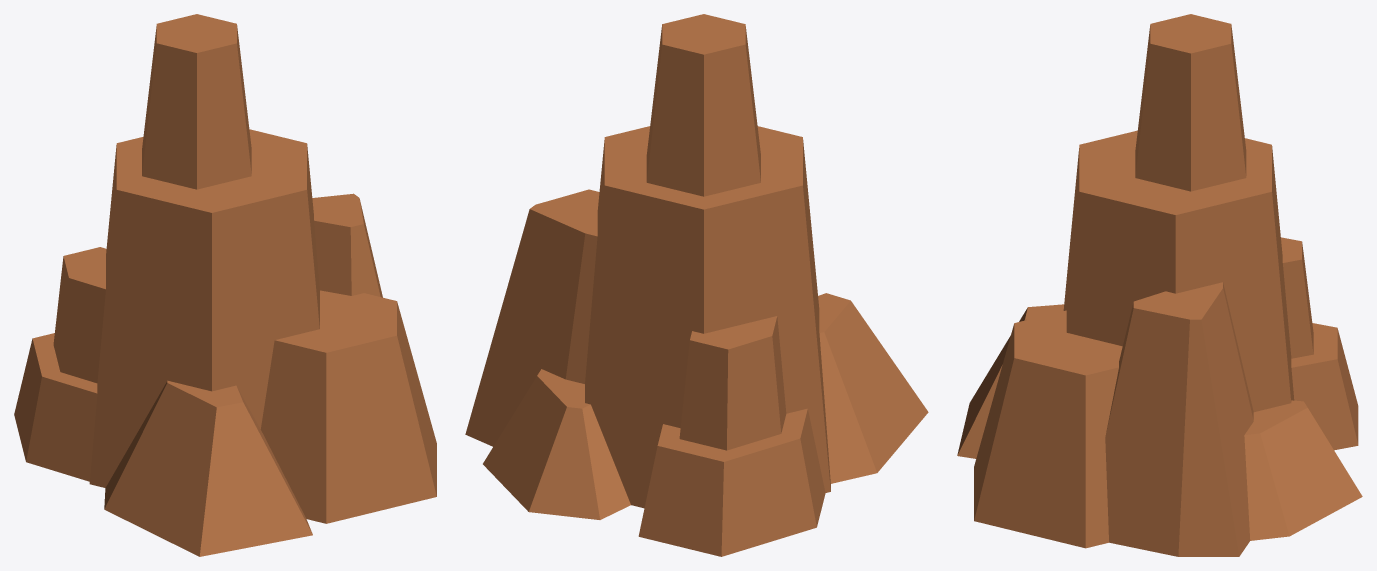
The model's file is formation_rock.glb.
The picture shows the model from 3 angles, left to right: view 1: azimuth 30°, elevation 25°; view 2: azimuth 150°, elevation 25°; view 3: azimuth 270°, elevation 25°; orthographic projection. The views are drawn at different scales.
Visible parts, largest first — view 1: formation_rock; view 2: formation_rock; view 3: formation_rock.
Boxes of the visible parts, x1,y1,x2,y2 form: formation_rock: (14,14,436,556); formation_rock: (465,14,928,556); formation_rock: (957,14,1362,556).
Bounding box in the file's own units: 10.6 × 12.25 × 10.67.
